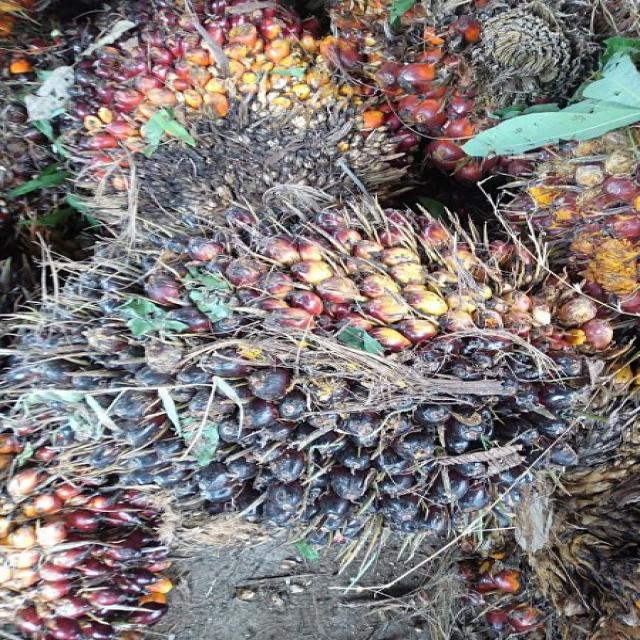fraksi 00: (24, 206, 624, 518)
